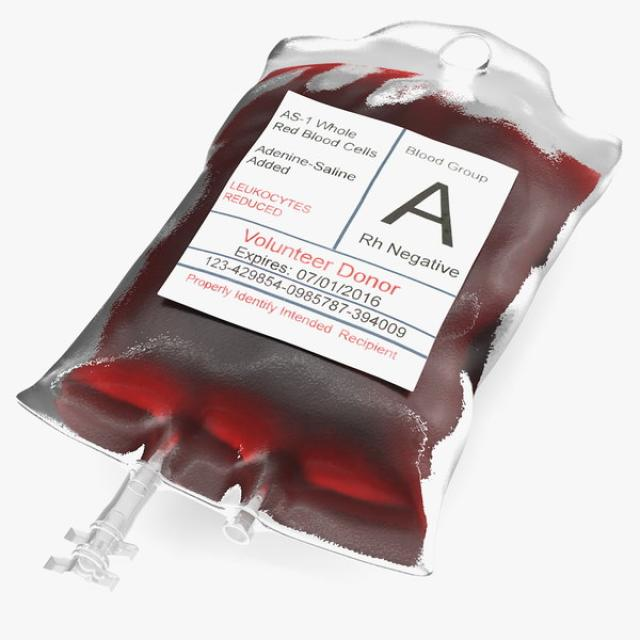B3: (17, 11, 617, 611)
